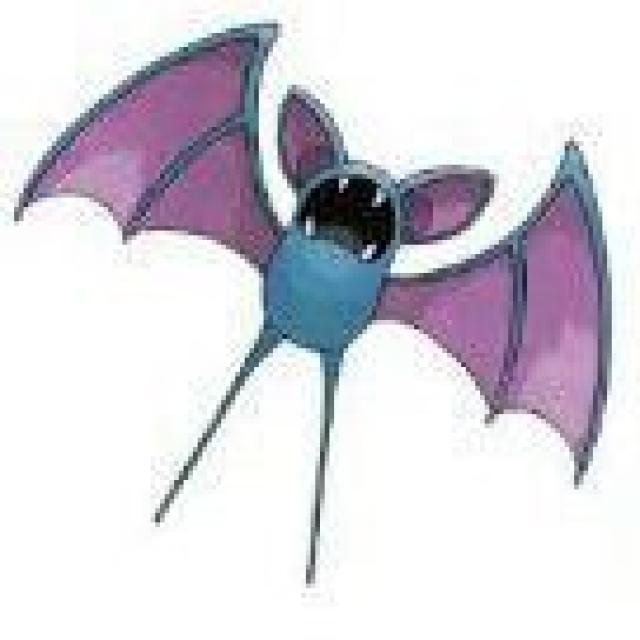Zubat: (180, 85, 524, 431)
